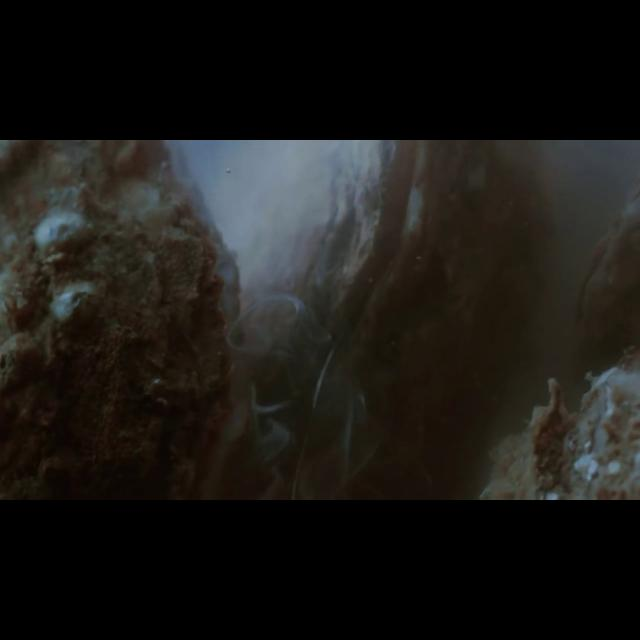Oyster-Closed: (6, 146, 252, 494), (571, 186, 638, 370)
Oyster-Open: (262, 145, 555, 492)
